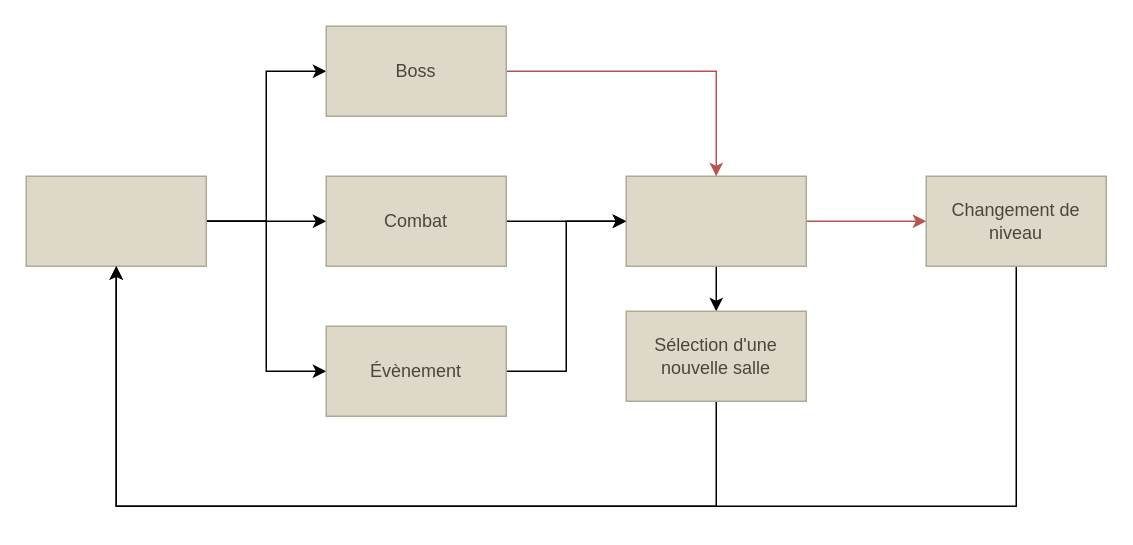
Some shapes in this 1133 by 545 pixel diagram are drawn without their labels. The box of each missing label's shape, as (x1, y1, x2, y2) in pixels:
Entrée dans la salle: (25, 175, 206, 266)
Récompense: (625, 175, 806, 266)
